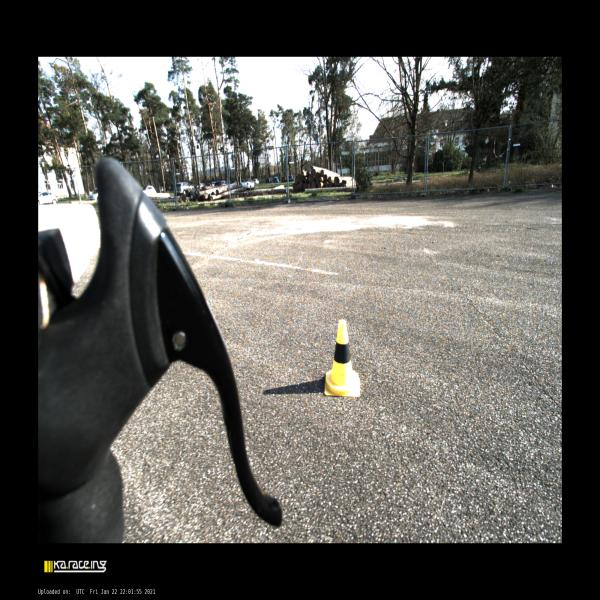yellow_cone: (325, 320, 360, 396)
